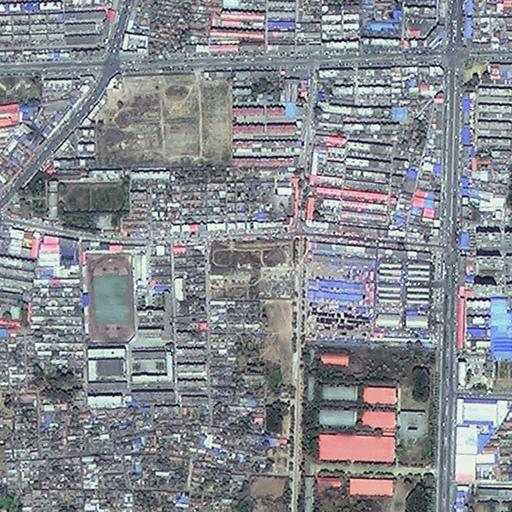school: (82, 256, 171, 404), (6, 170, 124, 232)
